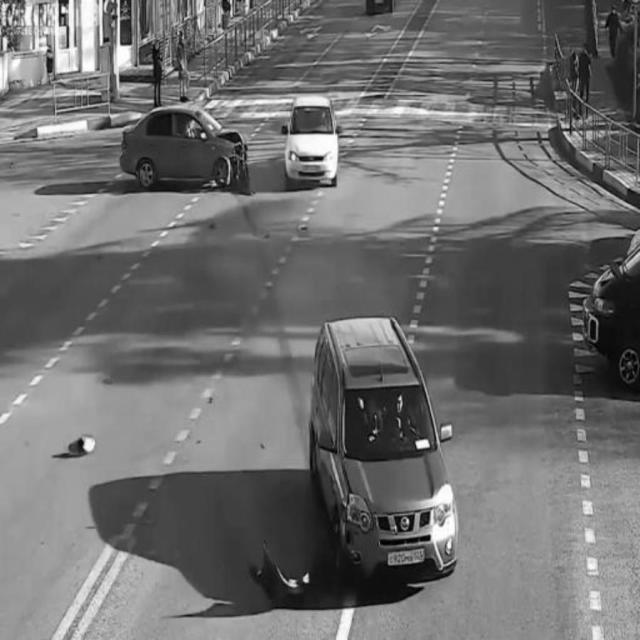person: (566, 37, 596, 113), (602, 4, 628, 58), (175, 24, 193, 97), (149, 38, 166, 96)
vehicle: (306, 319, 462, 572), (121, 103, 249, 185), (585, 243, 640, 375), (286, 90, 338, 180)
